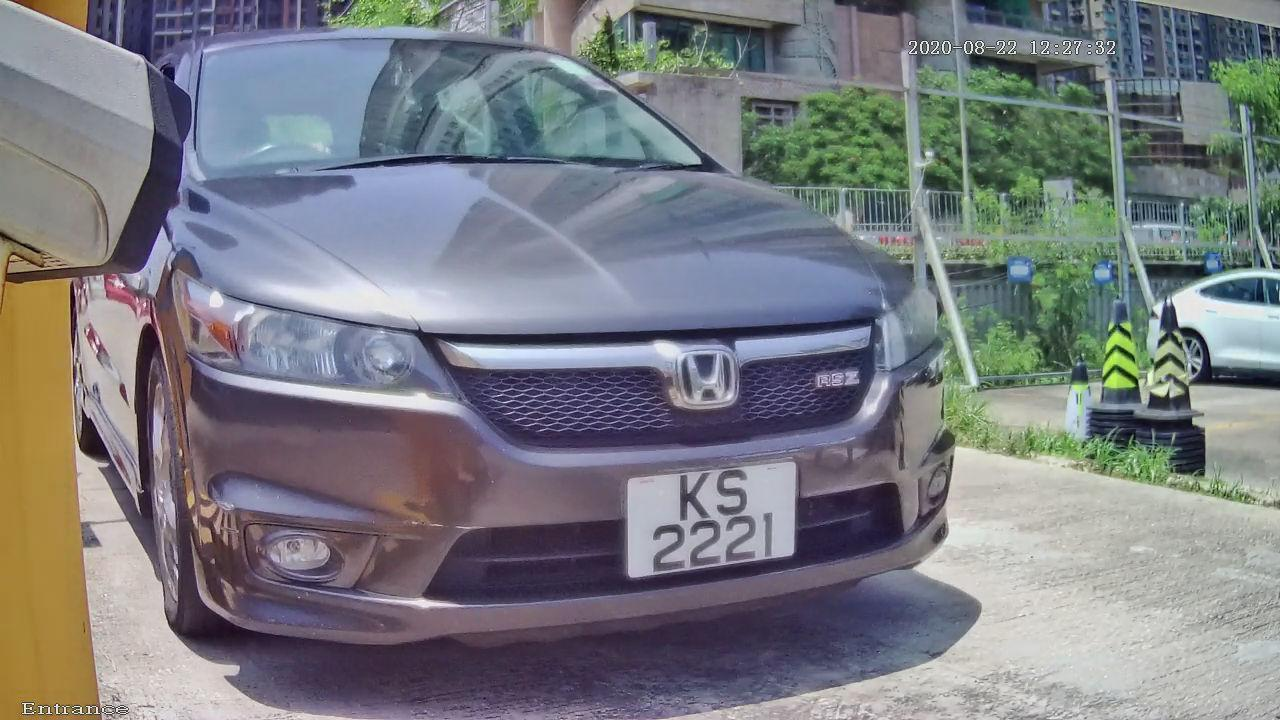Car: (12, 4, 1023, 708)
License Plate: (612, 451, 801, 592)
